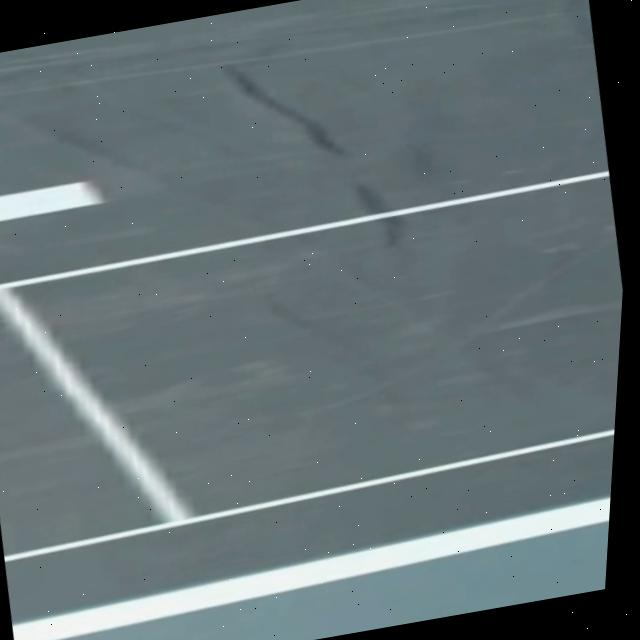center: (0, 181, 104, 219)
left: (12, 496, 611, 640)
